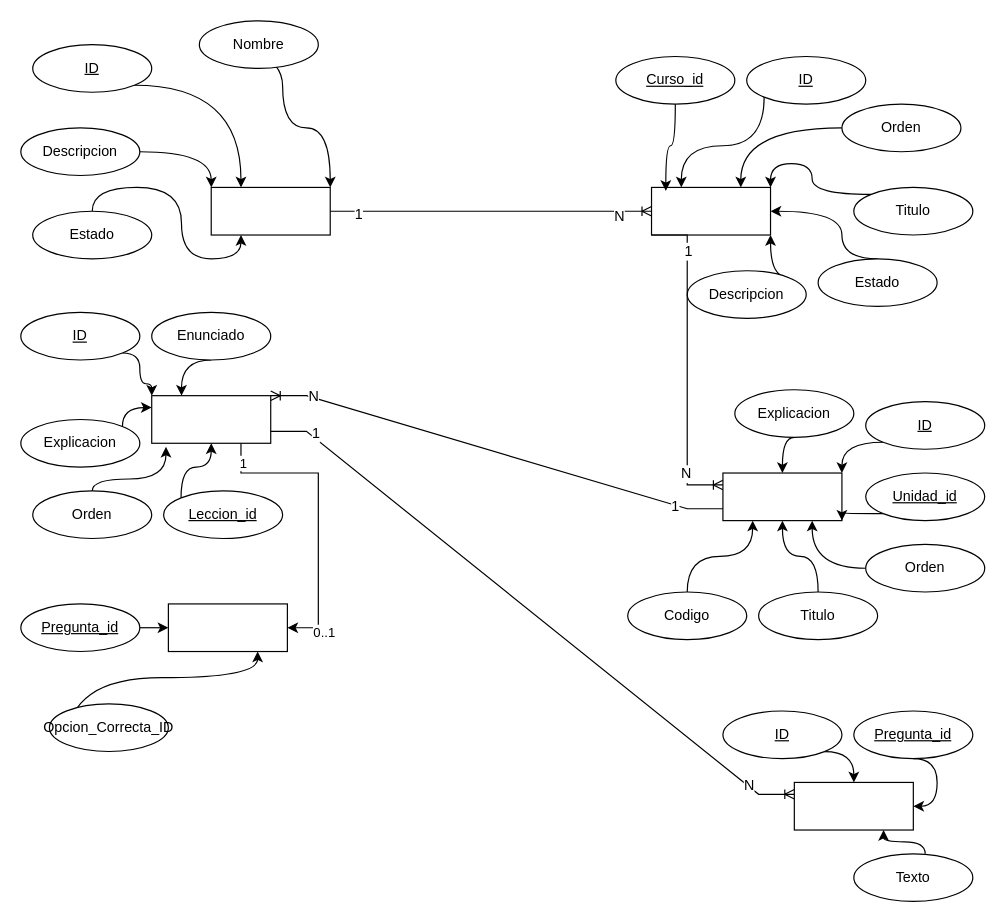
This 1006x922 diagram has some shape labels left out. The centre of each missing label's shape, as x and y in pixels:
CURSOS: the point at 270,210
LECCIONES: the point at 782,496
OPCIONES: the point at 853,805
PREGUNTAS: the point at 211,418
SOLUCIONES: the point at 227,627
UNIDADES: the point at 710,210
